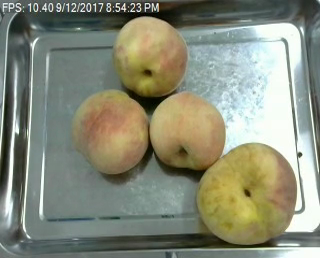Peach: (196, 142, 299, 246), (72, 89, 150, 175), (113, 15, 188, 97), (151, 90, 226, 170)
